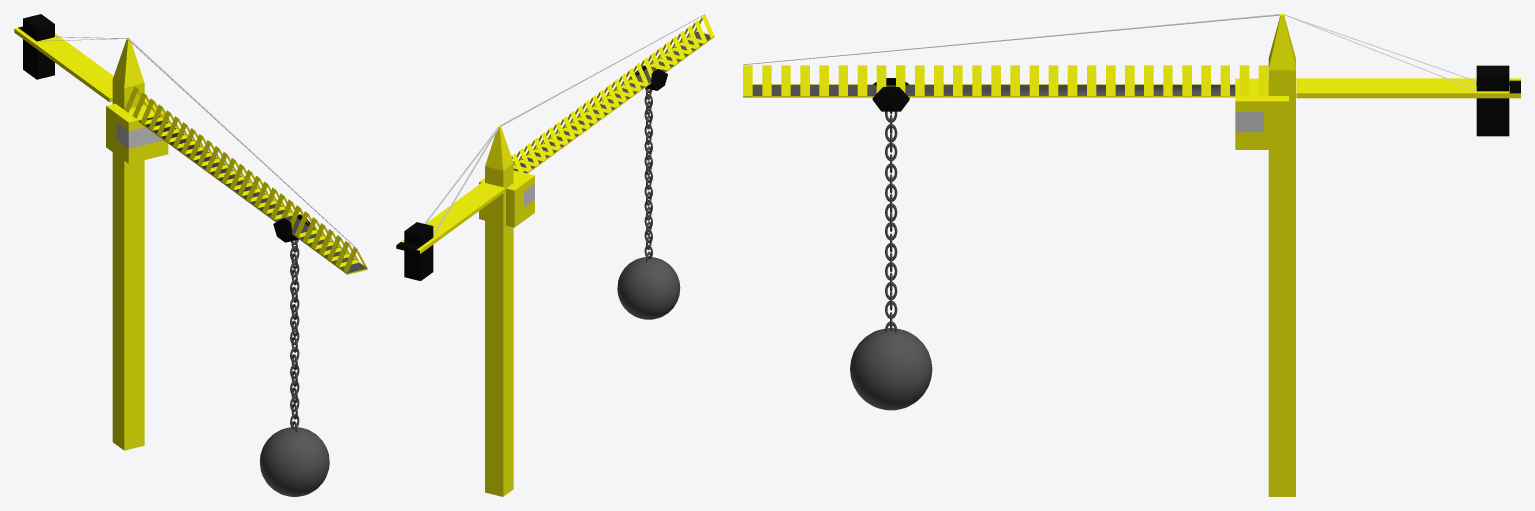
Rendered from craneandwreckinball.fbx.
The picture shows the model from 3 angles, left to right: view 1: azimuth 30°, elevation 25°; view 2: azimuth 150°, elevation 25°; view 3: azimuth 270°, elevation 25°; orthographic projection. The views are drawn at different scales.
Visible parts, largest first — view 1: Plane, Torus.001; view 2: Plane, Torus.001; view 3: Plane, Torus.001.
Boxes of the visible parts, <box> form: Plane: <box>14,14,367,450</box>; Torus.001: <box>259,239,329,496</box>; Plane: <box>396,14,714,496</box>; Torus.001: <box>617,88,680,319</box>; Plane: <box>743,14,1520,496</box>; Torus.001: <box>850,111,932,410</box>.
Size of the model in its own units: 599 by 3817 by 5646.
Materials: 1 (1 with a texture image).
